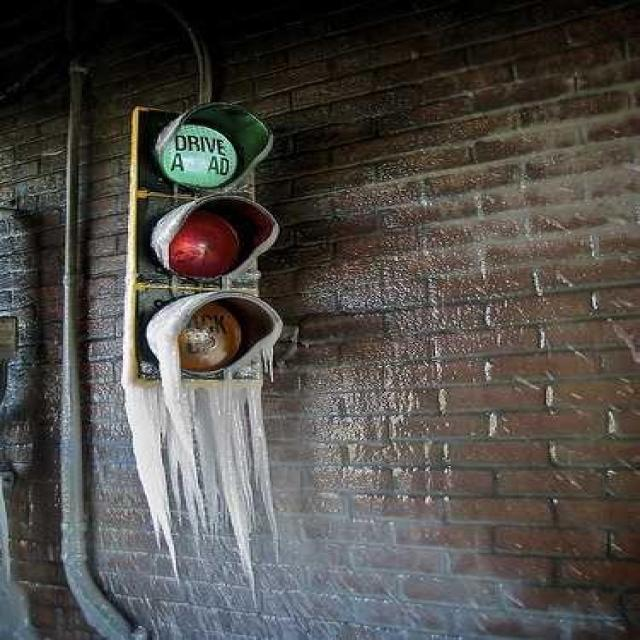Traffic Light -Off-: (130, 95, 297, 388)
